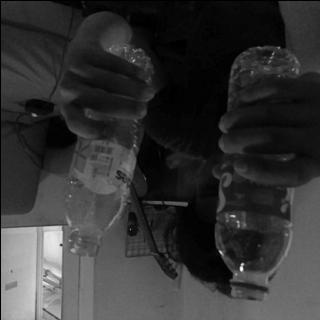plastic_bottles: (214, 43, 300, 299), (64, 46, 148, 258)
